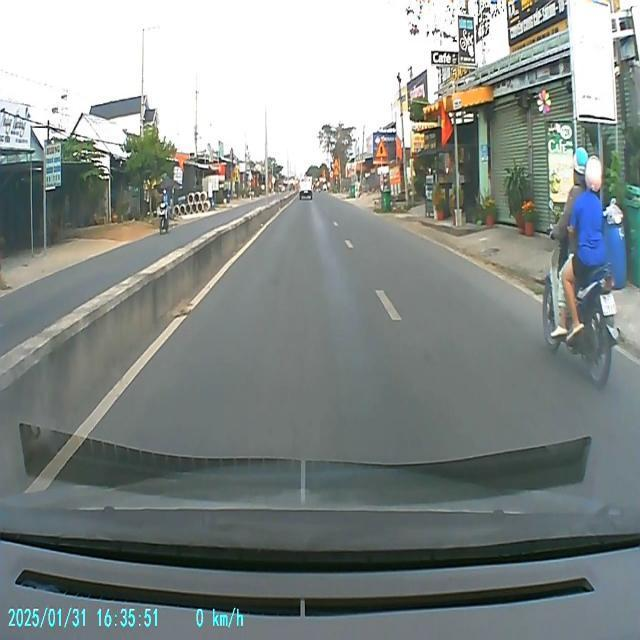207-giao-nhau-voi-duong-khong-uu-tien: (376, 138, 388, 158)
